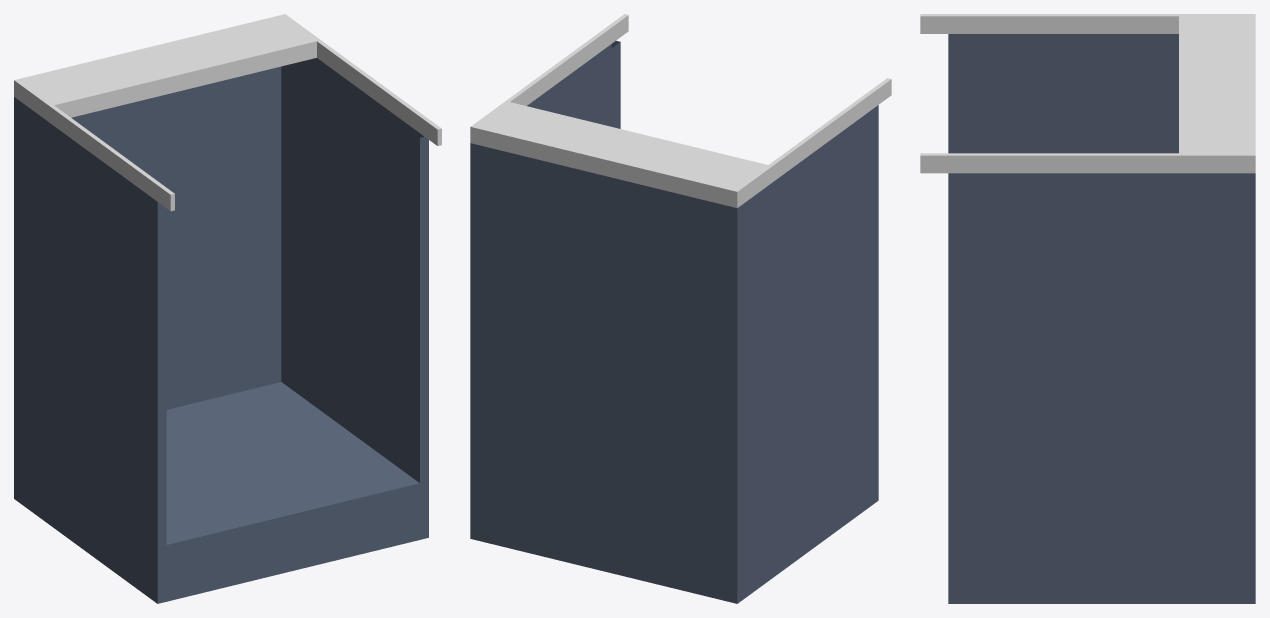
File: Kitchen1_C4_06.fbx
3 views of the same model, side by side, from view 1: azimuth 30°, elevation 25°; view 2: azimuth 150°, elevation 25°; view 3: azimuth 270°, elevation 25° (orthographic). The views are drawn at different scales.
Parts seen in each view (by area): view 1: Kitchen1_C4_06; view 2: Kitchen1_C4_06; view 3: Kitchen1_C4_06.
Boxes of the visible parts, left/top/right/bottom form: Kitchen1_C4_06: left=14, top=14, right=441, bottom=603; Kitchen1_C4_06: left=470, top=14, right=891, bottom=603; Kitchen1_C4_06: left=920, top=14, right=1255, bottom=603.
Size of the model in its own units: 60 by 88.5 by 60.
